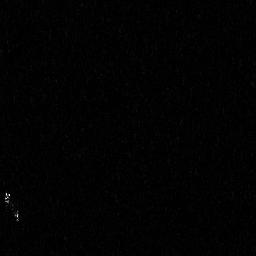ship: (3, 190, 24, 224)
